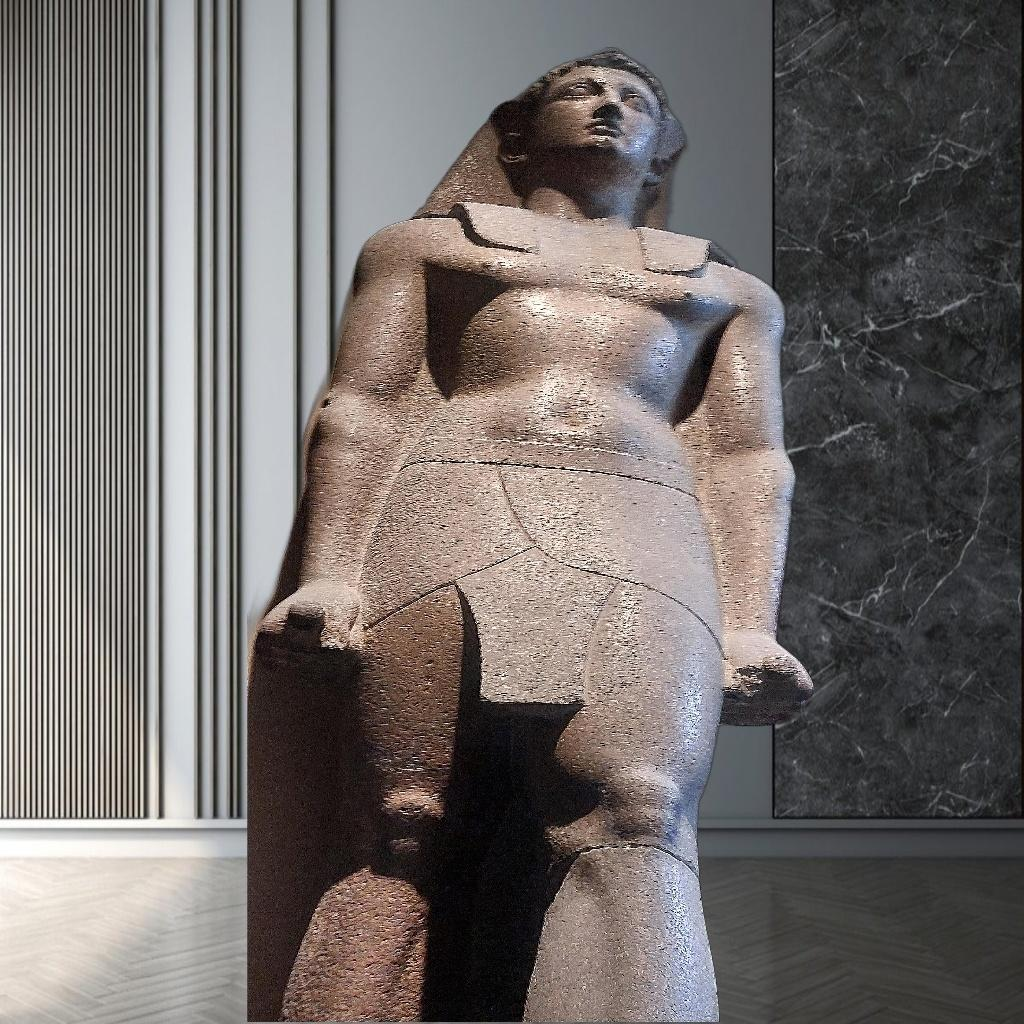Augustus: (248, 47, 816, 1022)
